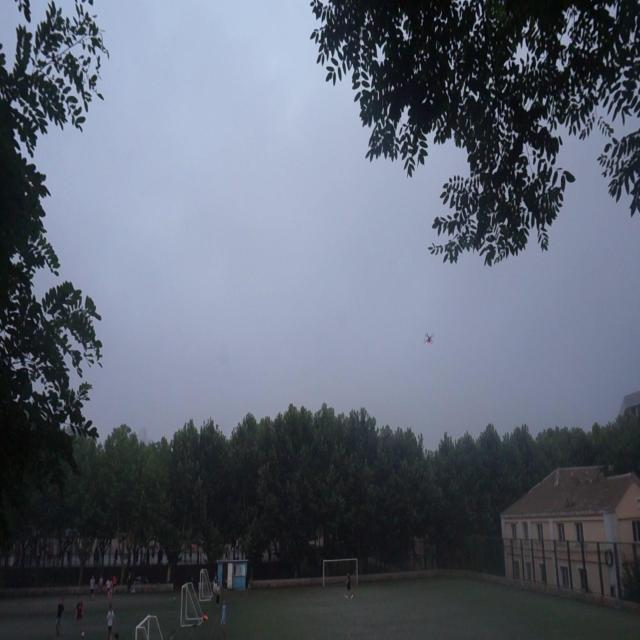drone: (422, 329, 435, 349)
